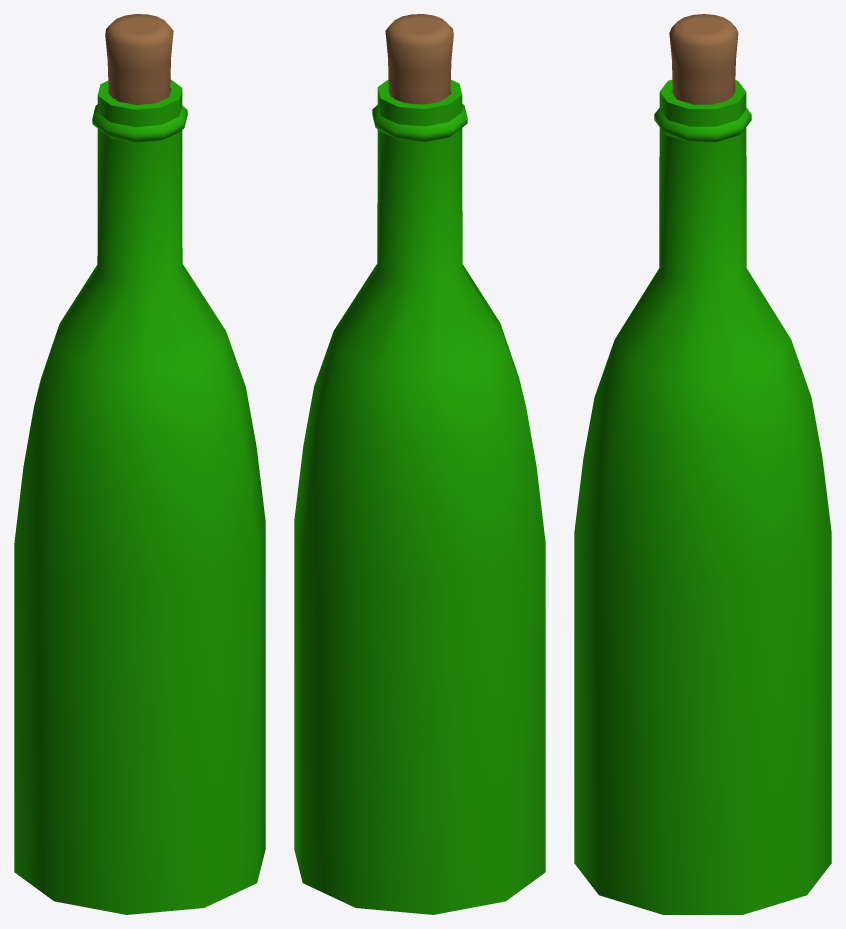
The model's file is WineBottleVar2.fbx.
3 renders of one model, left to right at view 1: azimuth 30°, elevation 25°; view 2: azimuth 150°, elevation 25°; view 3: azimuth 270°, elevation 25°, orthographic.
Parts seen in each view (by area): view 1: WineBottleVar2; view 2: WineBottleVar2; view 3: WineBottleVar2.
Part boxes in pixels (x1=…): WineBottleVar2: x1=14, y1=14, x2=265, y2=914; WineBottleVar2: x1=294, y1=14, x2=545, y2=914; WineBottleVar2: x1=574, y1=14, x2=831, y2=914.
Size of the model in its own units: 23.75 by 89.61 by 24.97.
